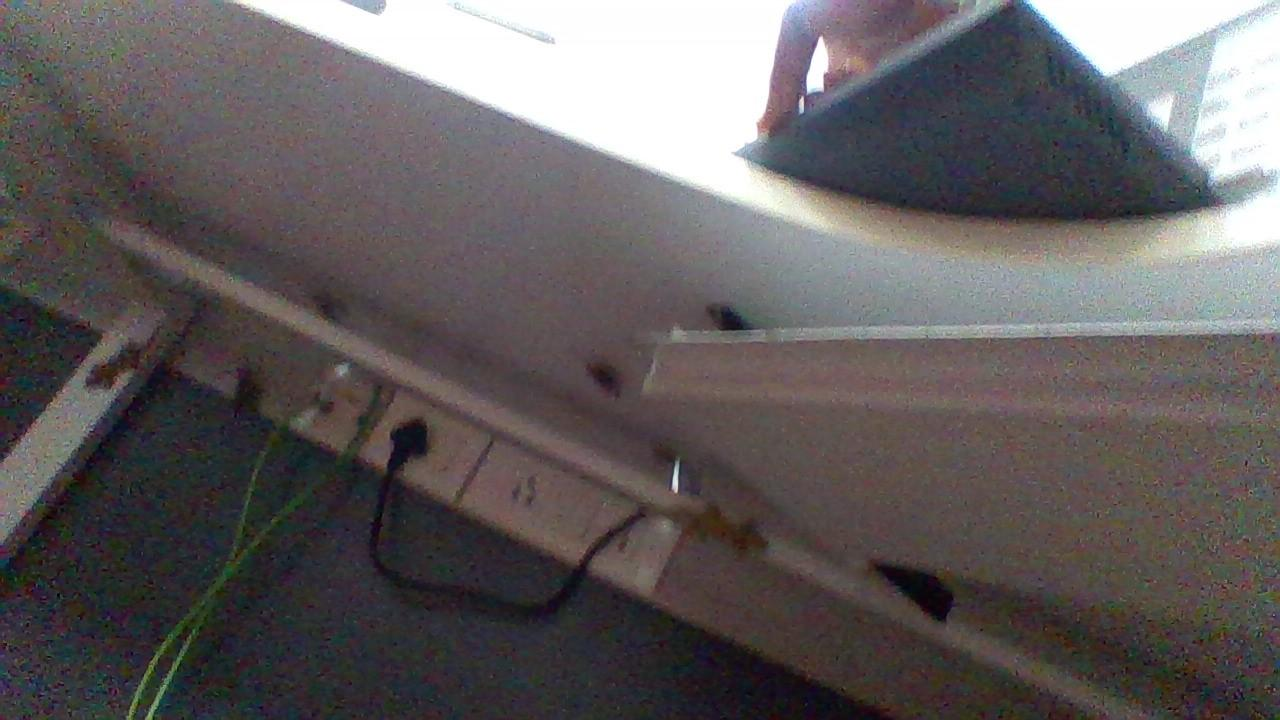cockroach: (580, 343, 627, 400), (226, 353, 264, 422)
lizard: (647, 492, 770, 561), (87, 317, 162, 399)
